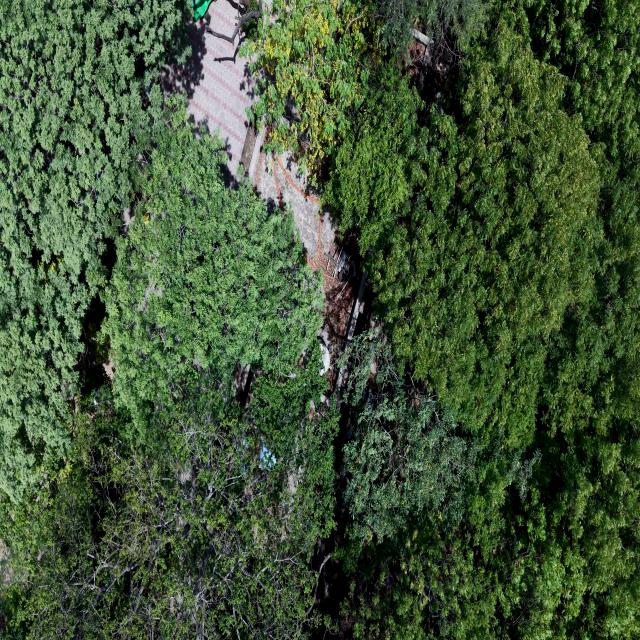DRY_AREA: (253, 152, 359, 361)
VEGETATION_TREE: (0, 0, 639, 639), (342, 2, 639, 636), (4, 106, 337, 637), (364, 8, 600, 440), (0, 0, 190, 501), (14, 396, 335, 639), (103, 104, 321, 432), (343, 330, 474, 540), (244, 0, 380, 172), (326, 60, 422, 250), (376, 0, 490, 54)
